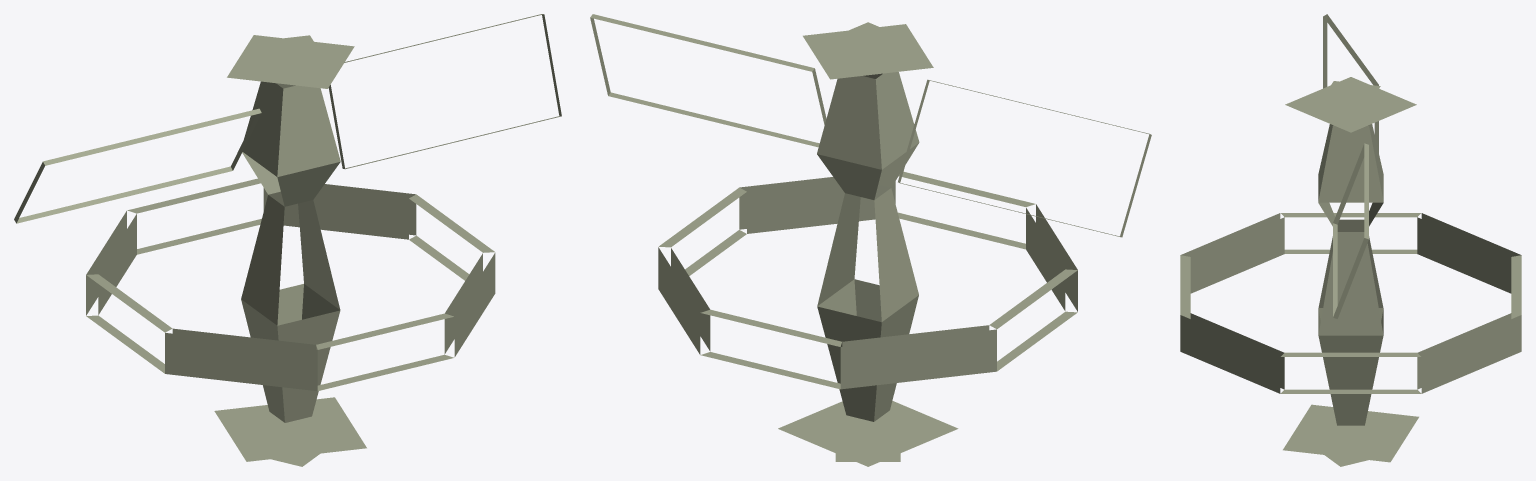
Rendered from station.obj.
3 views of the same model, side by side, from view 1: azimuth 30°, elevation 25°; view 2: azimuth 150°, elevation 25°; view 3: azimuth 270°, elevation 25° (orthographic). The views are drawn at different scales.
Visible parts, largest first — view 1: Cube1_sep2; view 2: Cube1_sep2; view 3: Cube1_sep2.
Boxes of the visible parts, box(x1,y1,x2,y2) form: Cube1_sep2: box(14, 14, 561, 466); Cube1_sep2: box(590, 14, 1151, 466); Cube1_sep2: box(1180, 14, 1521, 466).
Bounding box in the file's own units: 11.53 × 8.43 × 7.3.
